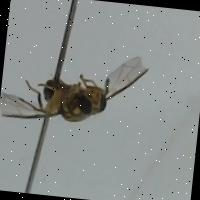Oriental-fruit-fly: (0, 30, 167, 142)
